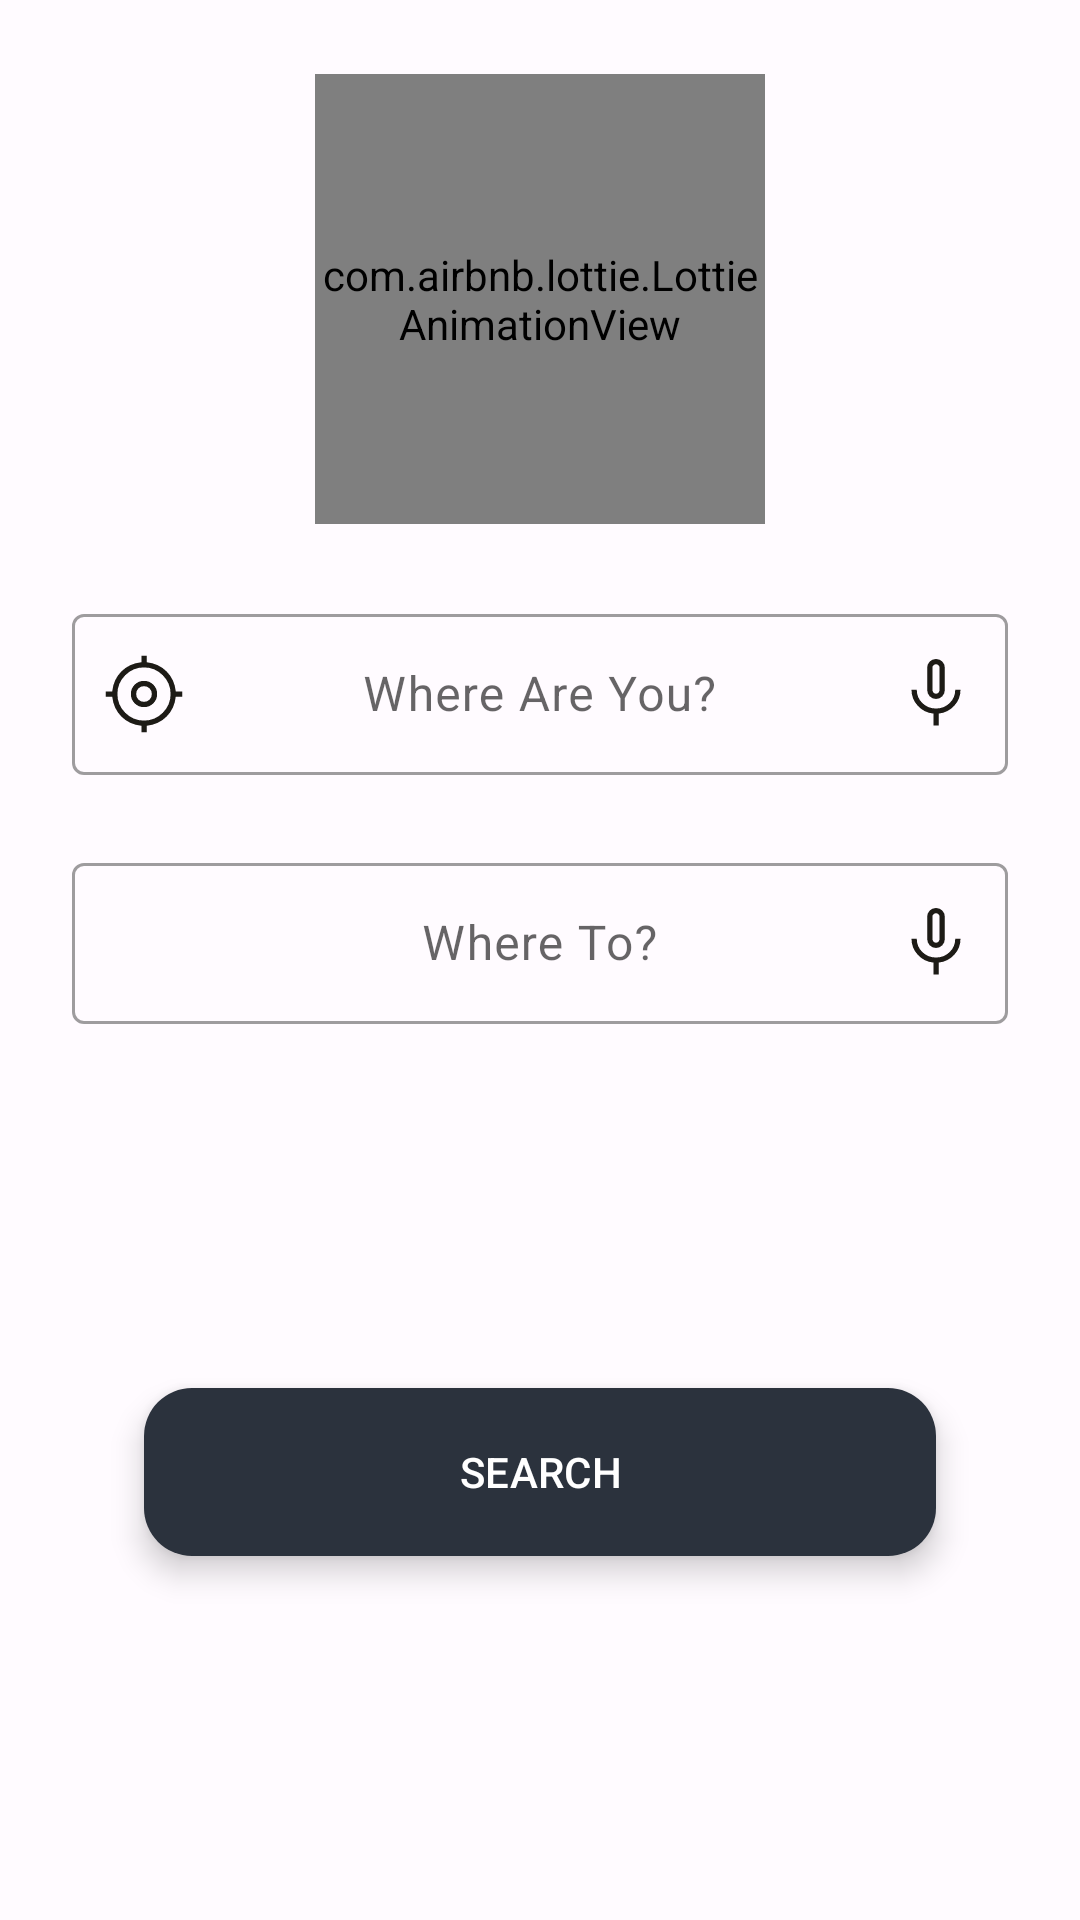

Screen size 1080x1920. Icon name, then its box in pixels as (x1, y1, x2, y2):
location: (105, 655, 183, 733)
mic: (911, 659, 961, 726), (911, 908, 961, 975)
